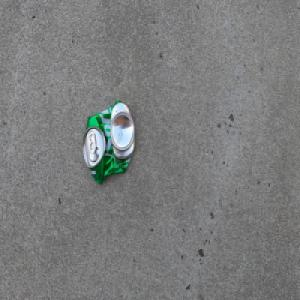SodaCan: (81, 99, 135, 185)
